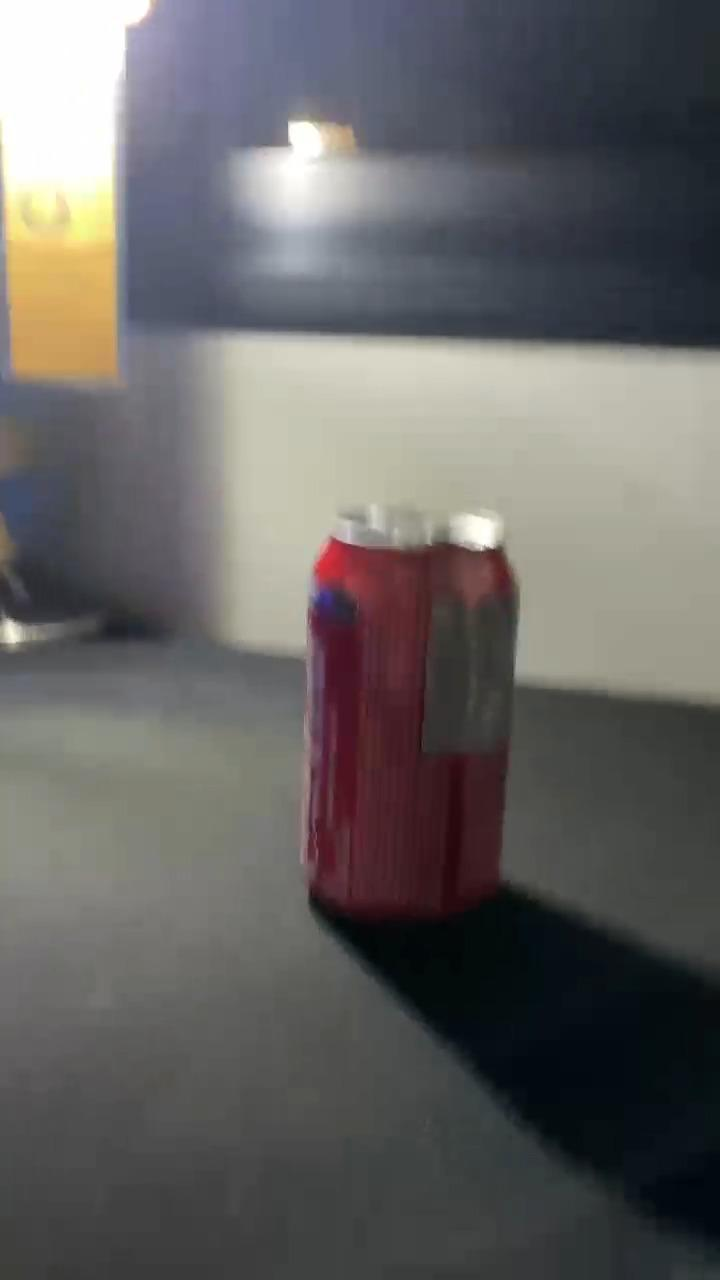coke: (300, 502, 520, 919)
